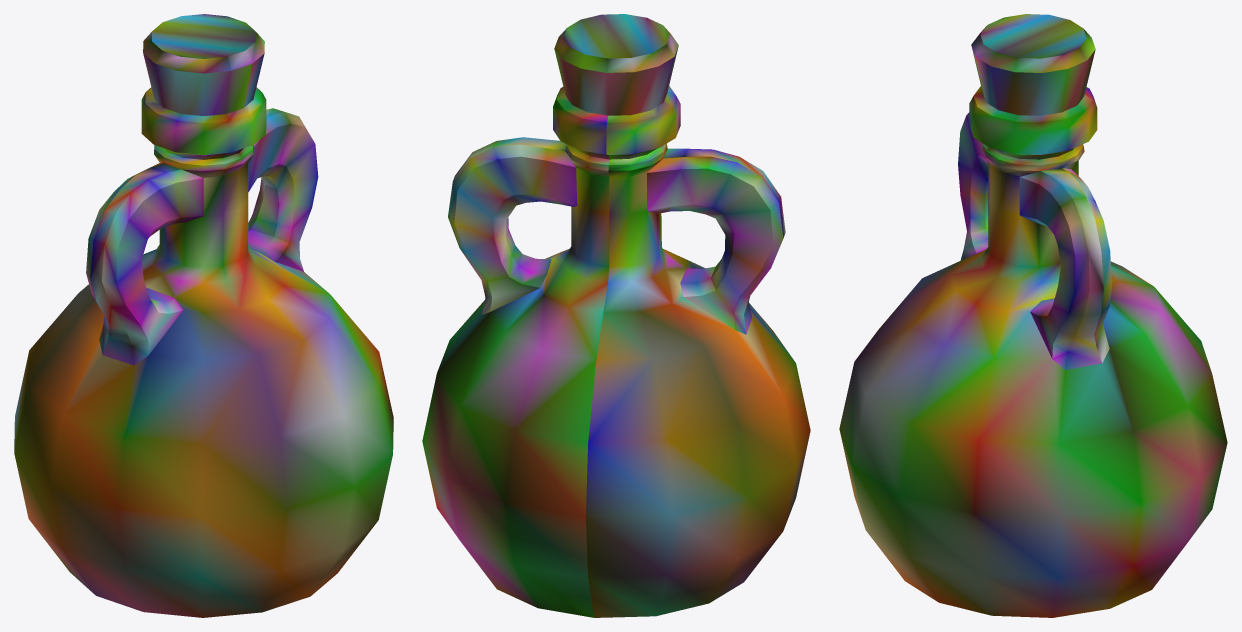
File: Pot06.fbx
3 views of the same model, side by side, from view 1: azimuth 30°, elevation 25°; view 2: azimuth 150°, elevation 25°; view 3: azimuth 270°, elevation 25° (orthographic).
Parts seen in each view (by area): view 1: Pot.003; view 2: Pot.003; view 3: Pot.003.
Part boxes in pixels (<box>): Pot.003: <box>14,14,393,617</box>; Pot.003: <box>422,14,810,617</box>; Pot.003: <box>839,14,1227,617</box>.
Bounding box in the file's own units: 27.64 × 41.87 × 27.86.
